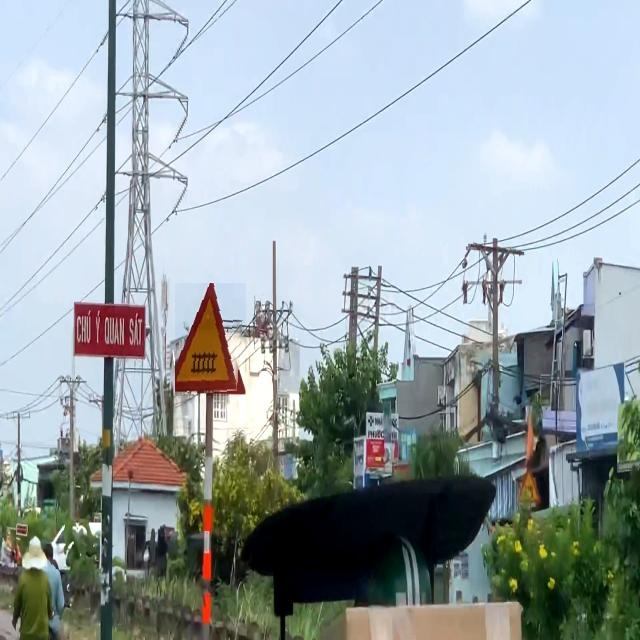bien_nguy_hiem: (175, 283, 246, 396)
